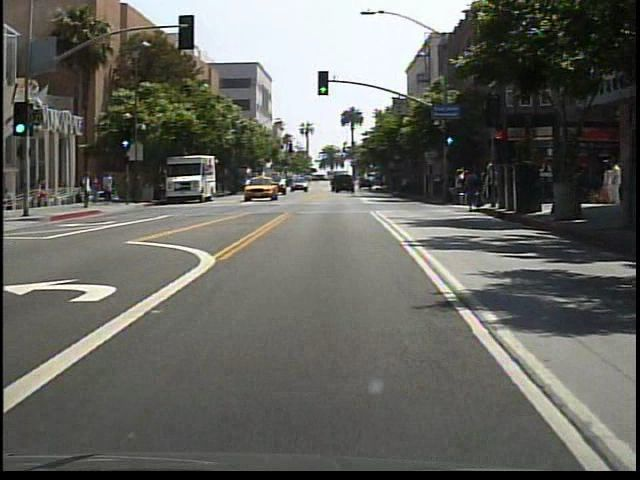person: (101, 170, 118, 206), (82, 171, 96, 211), (91, 174, 103, 206), (39, 179, 51, 207)
